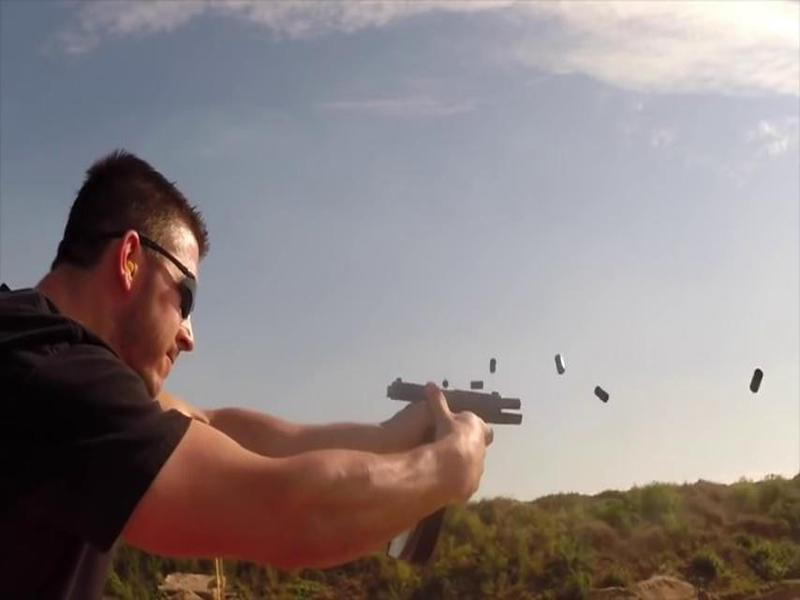Pistola: (370, 369, 532, 482)
